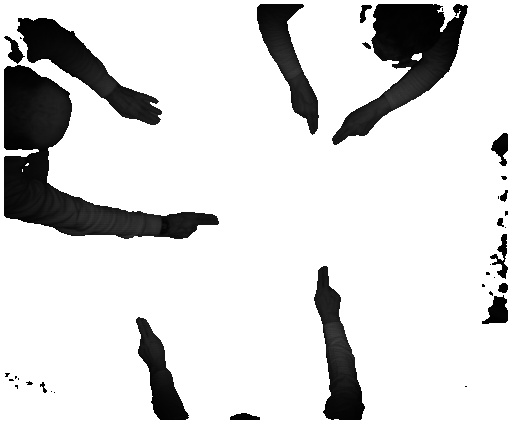hand: (331, 101, 387, 151), (136, 312, 175, 371), (111, 87, 167, 127), (280, 83, 319, 135), (312, 264, 343, 321), (166, 208, 223, 239)
